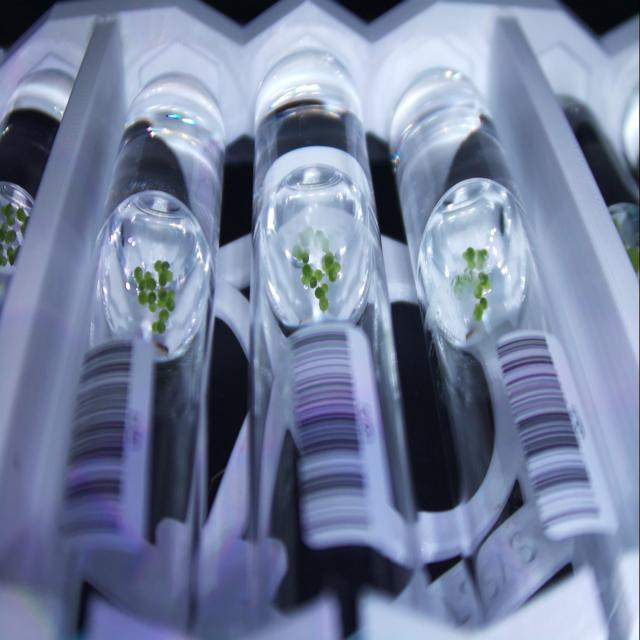Lemna-Gibba: (322, 252, 341, 282), (134, 267, 156, 291), (301, 264, 322, 289), (154, 260, 172, 285), (151, 309, 169, 334), (475, 272, 490, 299), (472, 297, 488, 322), (138, 290, 156, 312), (315, 284, 329, 312), (158, 289, 175, 312), (314, 230, 330, 253), (292, 245, 309, 264), (462, 247, 475, 270), (475, 248, 489, 269), (300, 227, 314, 248)
